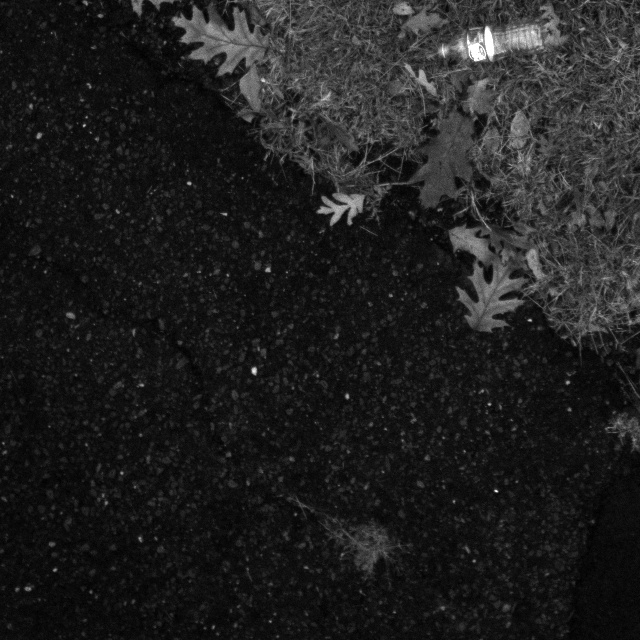bottle: (430, 0, 573, 79)
